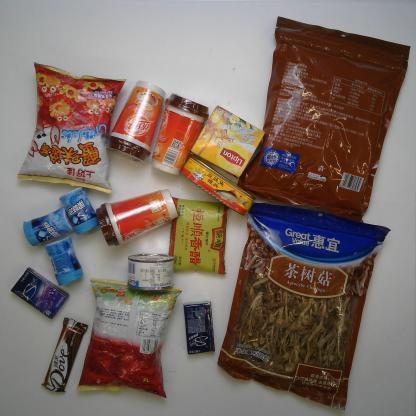Canned Food: (179, 154, 258, 217), (126, 253, 176, 291)
Chocolate: (41, 316, 89, 393)
Dried Food: (216, 200, 393, 411), (237, 14, 414, 224)
Gum: (9, 266, 70, 320), (22, 206, 76, 247), (44, 236, 84, 288), (59, 186, 100, 236), (183, 300, 216, 355)
Instant Drink: (190, 104, 266, 180), (105, 80, 168, 165), (96, 188, 180, 249), (150, 92, 210, 176)
Puffed Food: (16, 62, 128, 196), (75, 277, 183, 400)
Seasoner: (168, 196, 231, 276)
